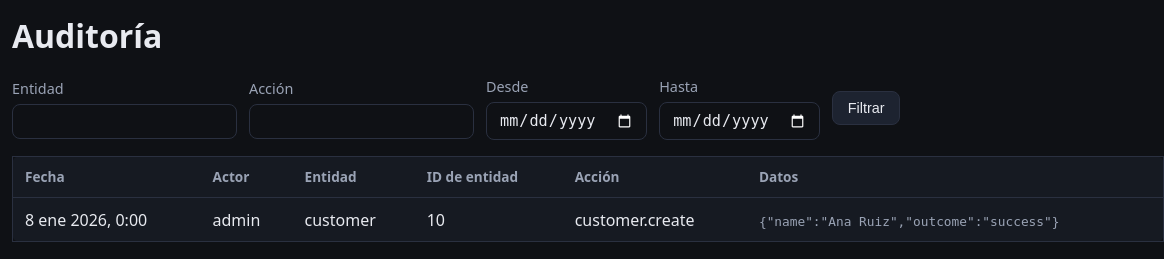
Scenario: R-UI-AUD-1: audit trail table › R-UI-AUD-1: empty filtered result → localized empty state
expect the table is shown: met, box [12,156,1163,242]
In the field labelled "Entidad": coordinates (124, 121) [12,104,237,139], type "warehouse"
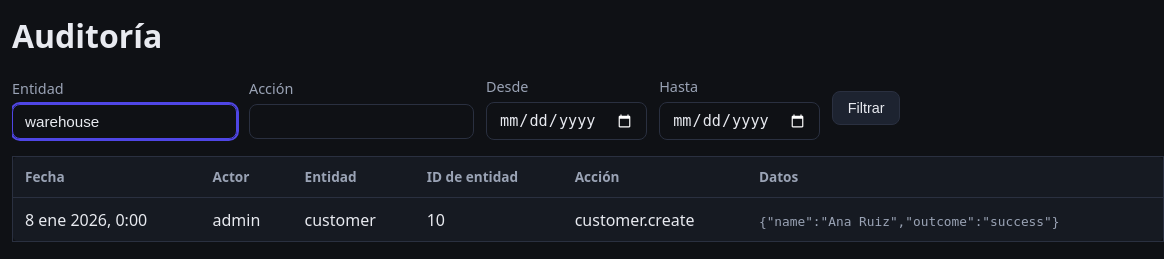
Click the button "Filtrar": coordinates (866, 108) [832,91,900,125]
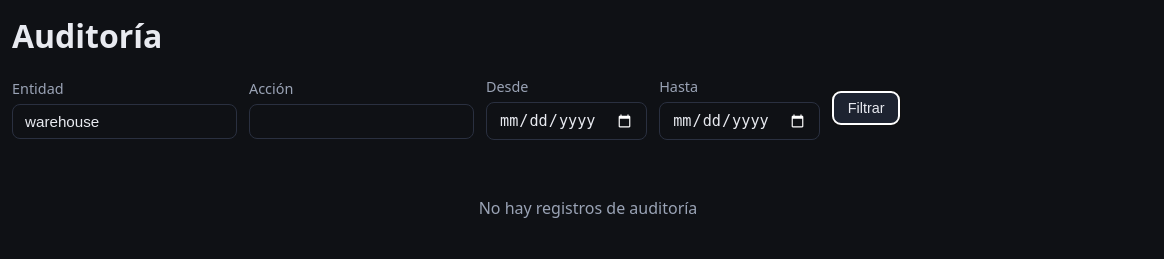
expect the text "No hay registros de auditoría" is shown: met, box [479,197,697,219]
